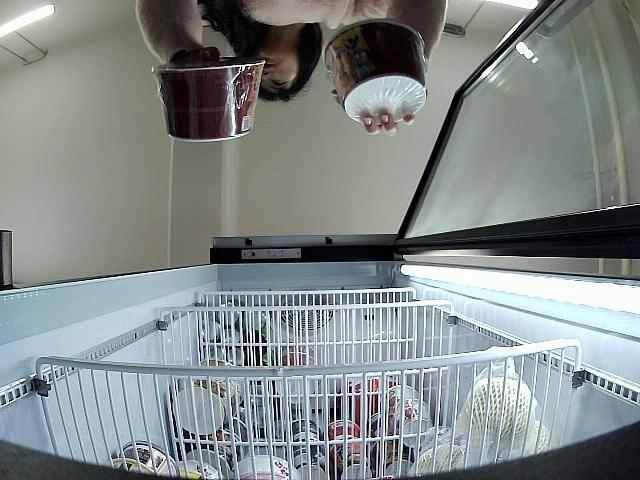05_nuguri_L: (322, 20, 428, 125), (150, 57, 264, 142)
